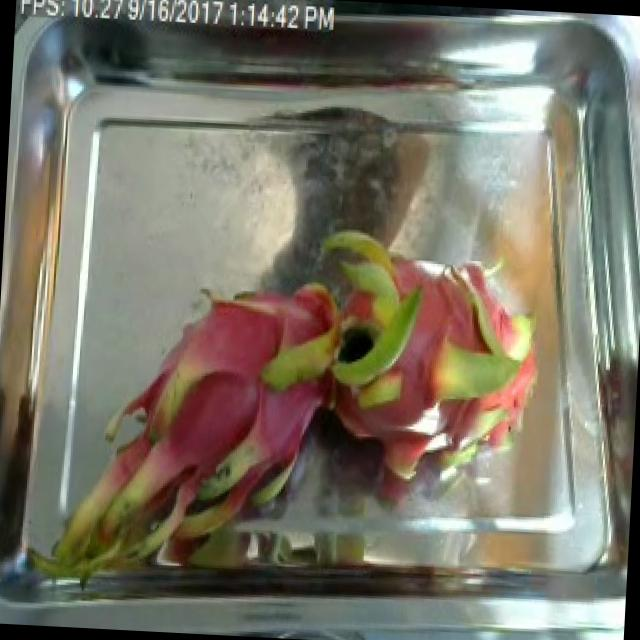Fruit: (421, 376, 509, 464)
